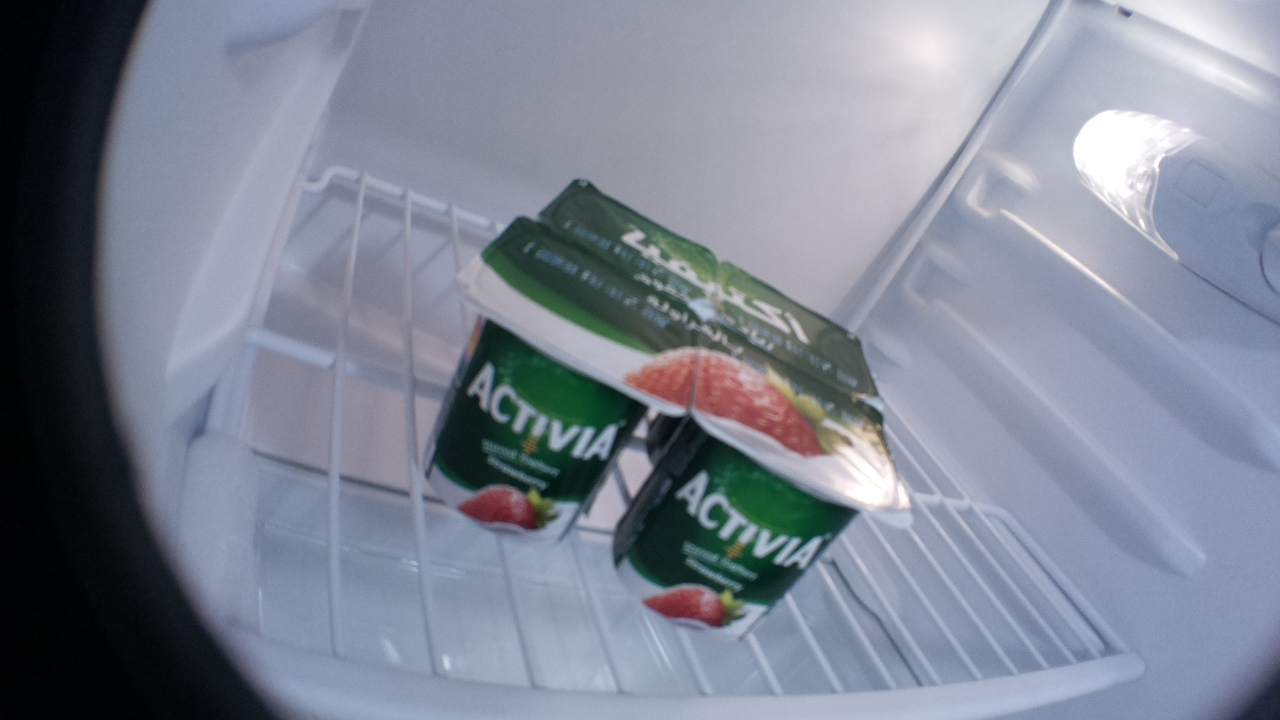yoghurt: (604, 329, 911, 641), (422, 215, 695, 544), (709, 258, 882, 397), (546, 174, 719, 313)
